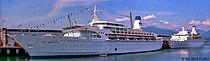Ship: (6, 4, 165, 59), (168, 25, 209, 52)
